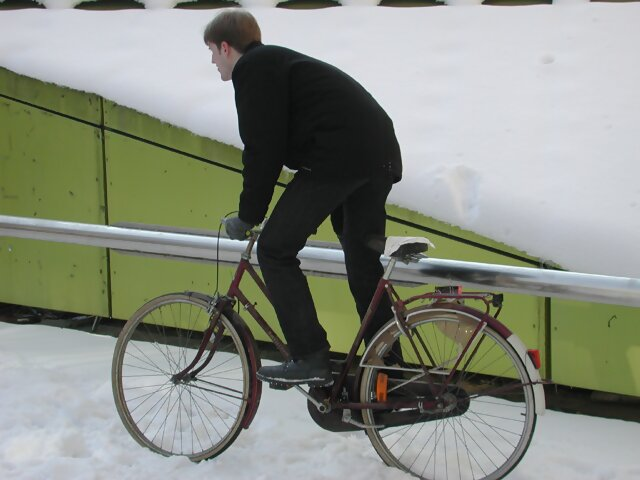person: (200, 7, 407, 394)
